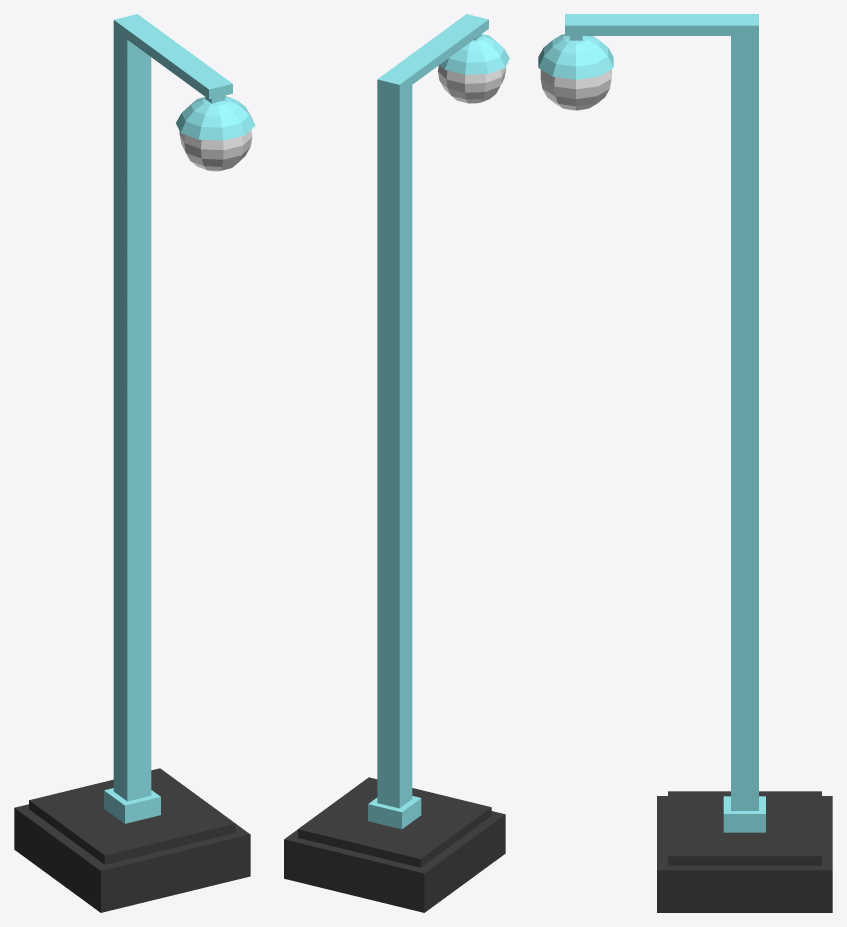
The model's file is Lamp_Post.fbx.
The picture shows the model from 3 angles, left to right: view 1: azimuth 30°, elevation 25°; view 2: azimuth 150°, elevation 25°; view 3: azimuth 270°, elevation 25°; orthographic projection. The views are drawn at different scales.
Parts seen in each view (by area): view 1: Lamp_Post; view 2: Lamp_Post; view 3: Lamp_Post.
Part boxes in pixels (<box>): Lamp_Post: <box>14,14,255,912</box>; Lamp_Post: <box>284,14,509,912</box>; Lamp_Post: <box>538,14,832,912</box>.
Bounding box in the file's own units: 130 × 219 × 701.
